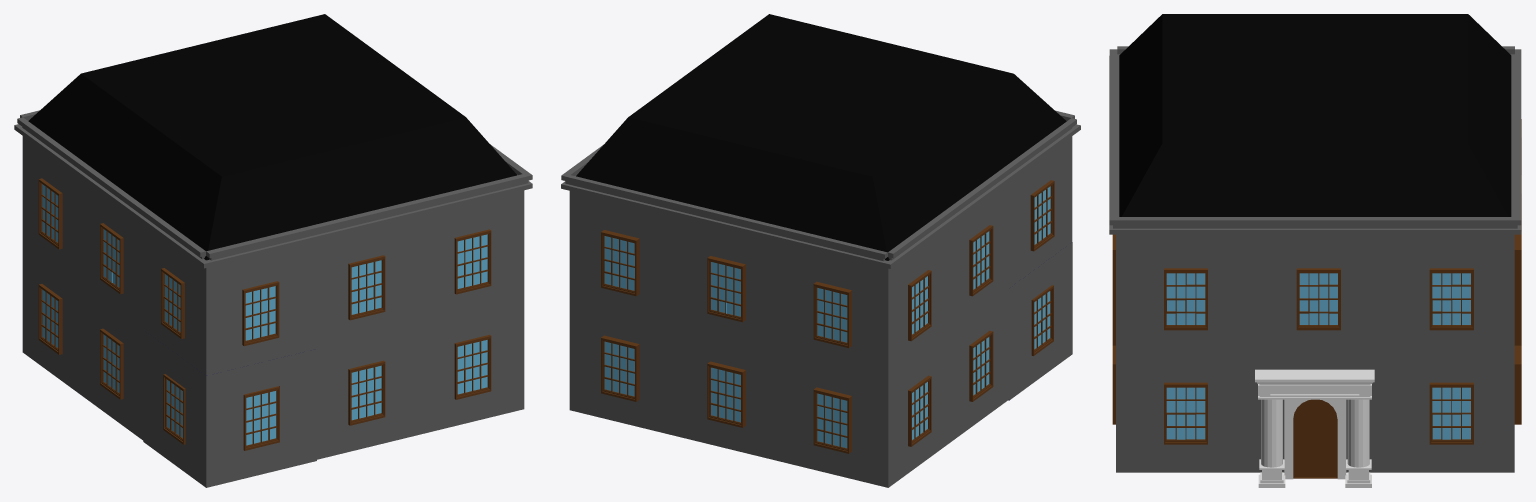
Rendered from Veilhuis.fbx.
The picture shows the model from 3 angles, left to right: view 1: azimuth 30°, elevation 25°; view 2: azimuth 150°, elevation 25°; view 3: azimuth 270°, elevation 25°; orthographic projection. The views are drawn at different scales.
Parts seen in each view (by area): view 1: Walls; view 2: Walls; view 3: Walls.
Part boxes in pixels (box(x1,y1,x2,y2)): Walls: box(14, 14, 532, 487); Walls: box(561, 14, 1080, 487); Walls: box(1109, 14, 1521, 487).
Bounding box in the file's own units: 1943 × 1861 × 1569.
